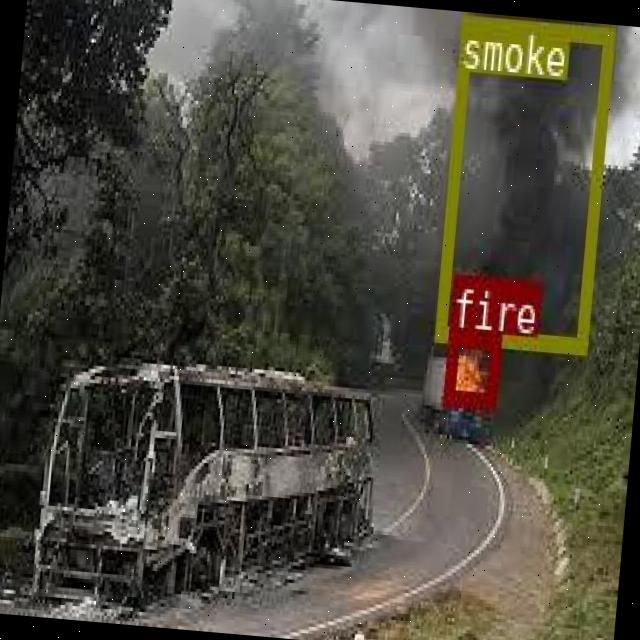fire: (442, 329, 498, 407)
smoke: (432, 14, 612, 351)
